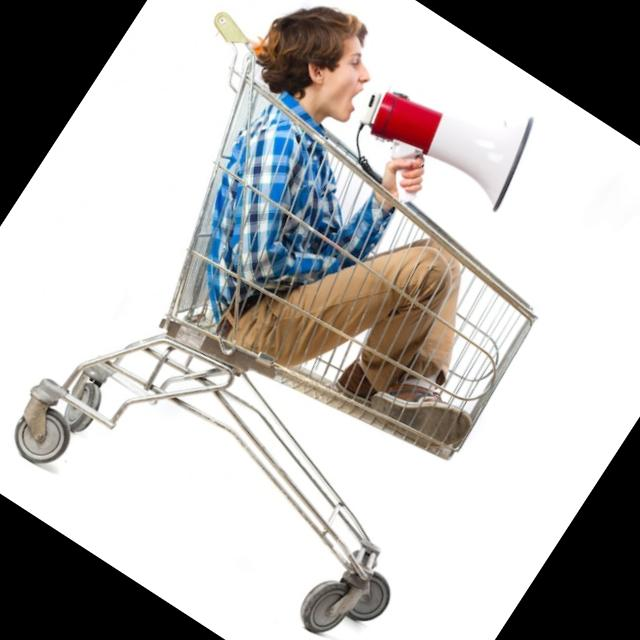Person: (113, 0, 623, 477)
